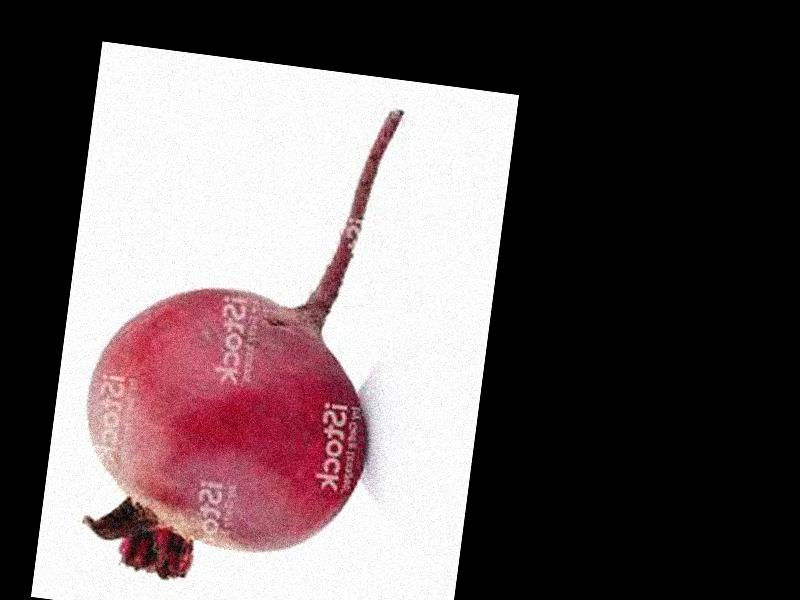Beet: (68, 77, 409, 600)
